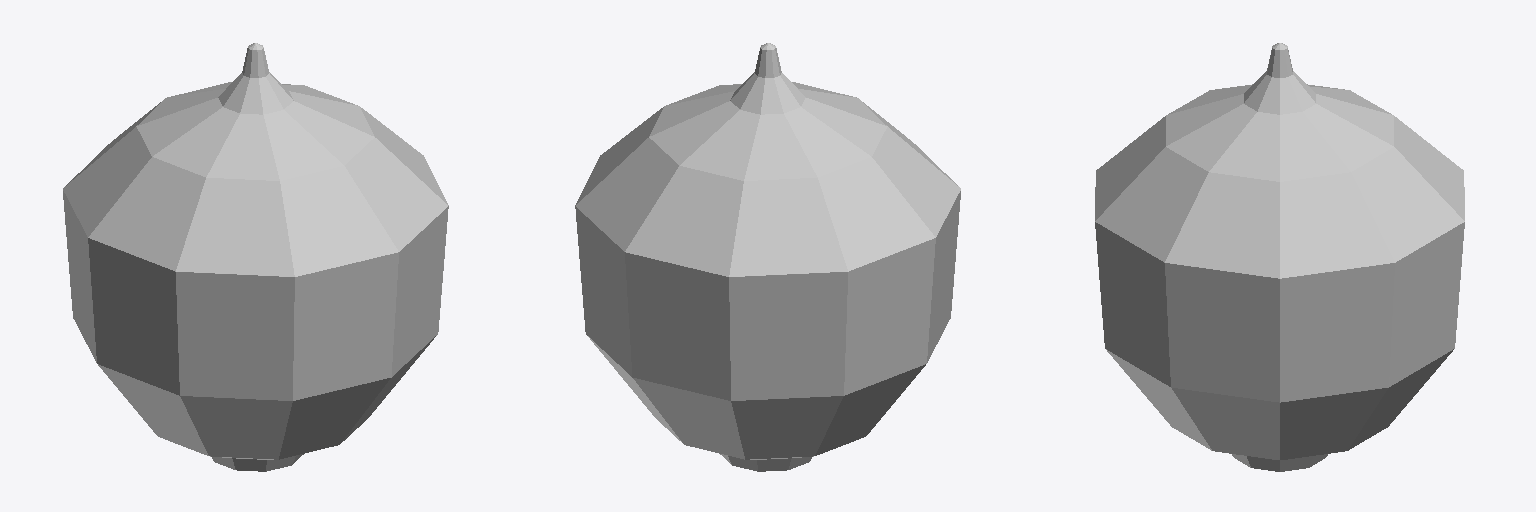
Rendered from Onion.OBJ.
3 renders of one model, left to right at view 1: azimuth 30°, elevation 25°; view 2: azimuth 150°, elevation 25°; view 3: azimuth 270°, elevation 25°, orthographic.
Size of the model in its own units: 0.0889 by 0.1079 by 0.0848.